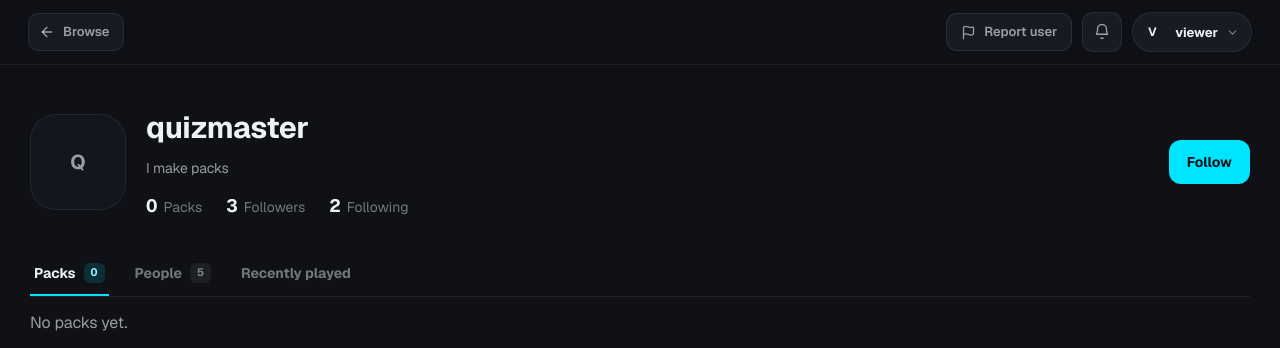
Test: AuthorScreen › does not flip the button state when the follow request fails
Expected: the text "quizmaster" is shown, [146,105,309,150]
Click the button "Follow" at (1209, 162), box [1169,140,1250,184]
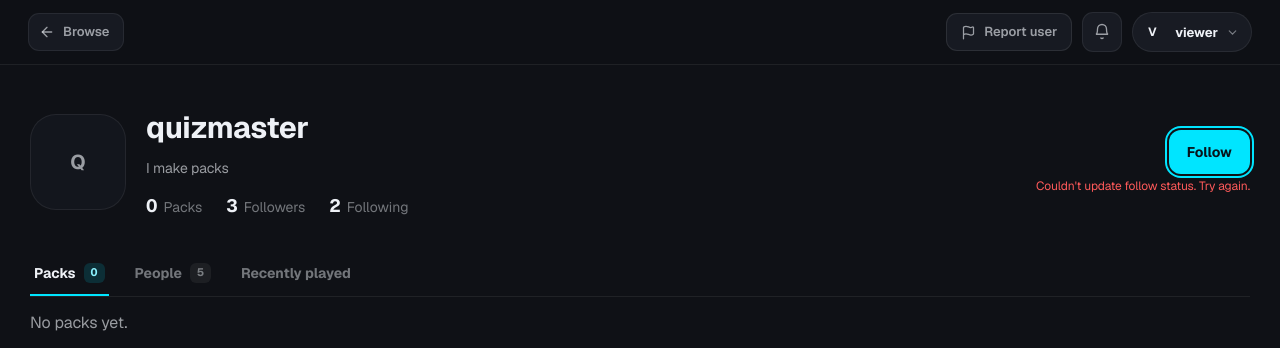
Expected: the button "Follow" is shown, [1169,130,1250,174]
Expected: the text "Couldn't update follow status. Try again." is shown, [1036,178,1250,194]
